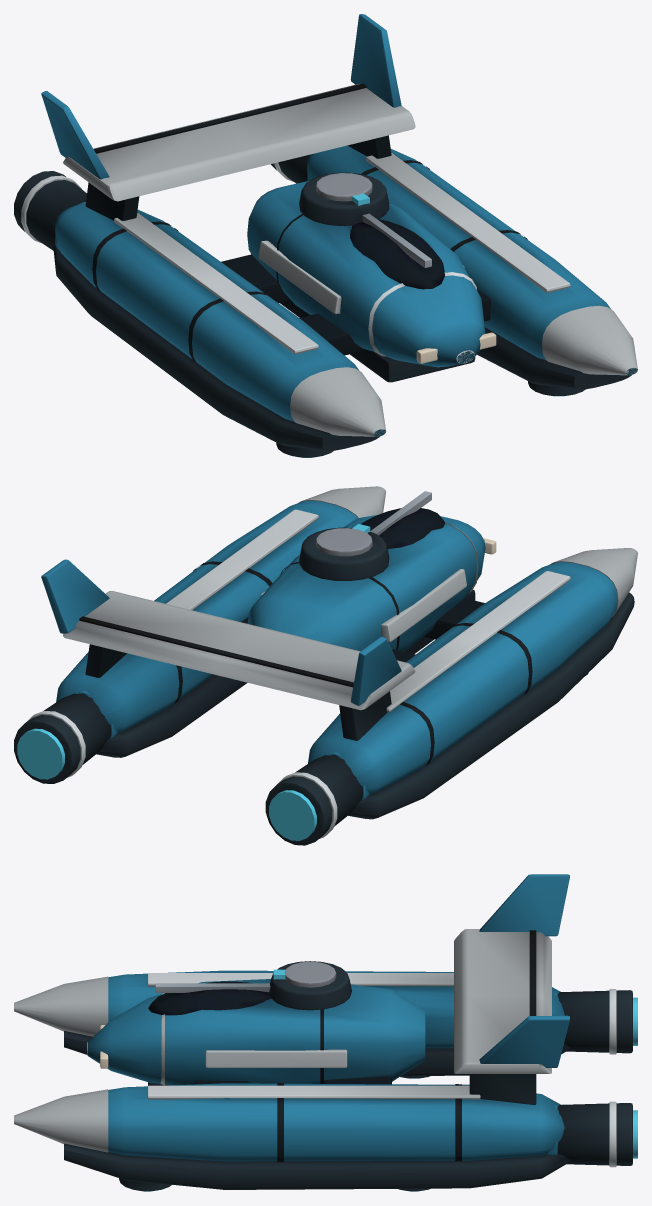
The model's file is ex_skiff_2.glb.
3 renders of one model, top to bottom at view 1: azimuth 30°, elevation 25°; view 2: azimuth 150°, elevation 25°; view 3: azimuth 270°, elevation 25°, orthographic. The views are drawn at different scales.
Parts seen in each view (by area): view 1: body; view 2: body; view 3: body.
Boxes of the visible parts, box(x1,y1,x2,y2) form: body: box(14, 14, 637, 457); body: box(14, 486, 637, 845); body: box(14, 874, 637, 1191).
Size of the model in its own units: 3.52 by 1.93 by 6.04.
